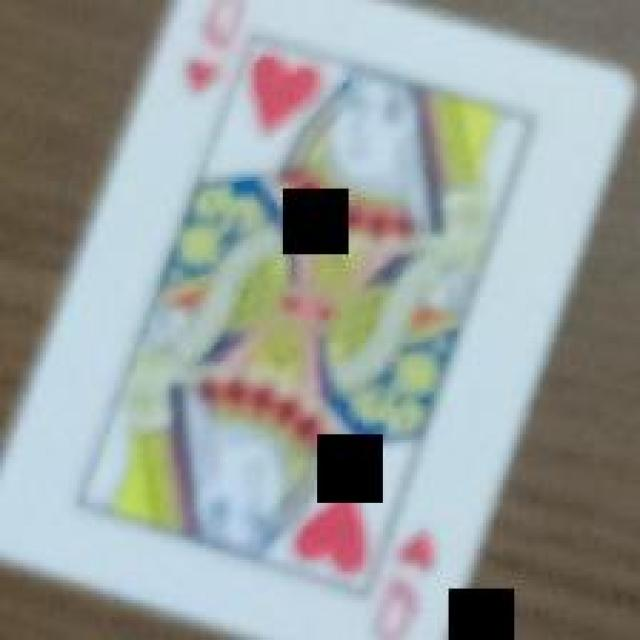Queen of hearts: (1, 1, 634, 640)
